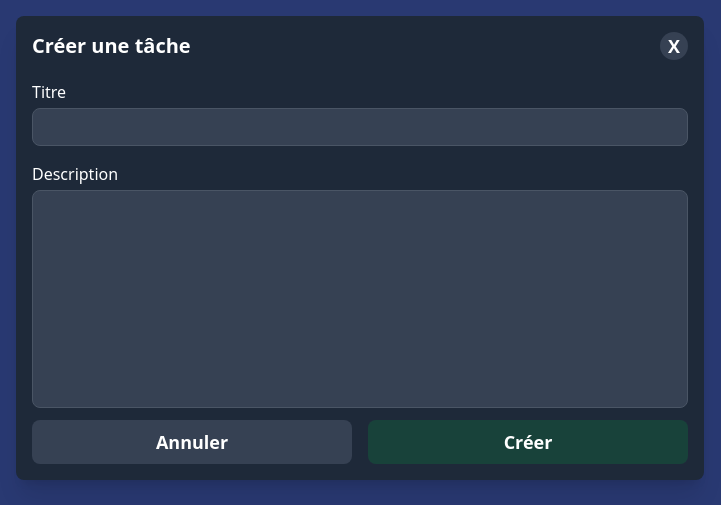
Test: CreateTaskModal › validation button › should be enabled when form is filled
Type "Task Title" into the field.
click(360, 127); type("Task Title")  # box [32,108,688,146]
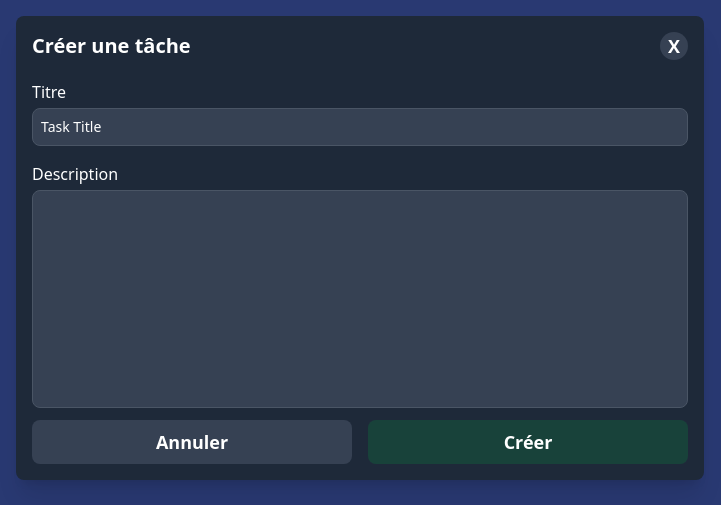
Type "Task Description" into the text box.
click(360, 299); type("Task Description")  # box [32,190,688,408]
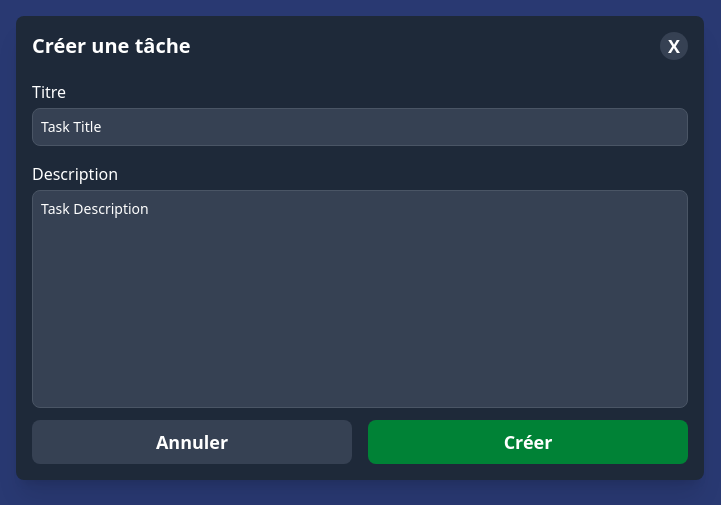
Now the button "Créer" is enabled, box [368,420,688,464]
